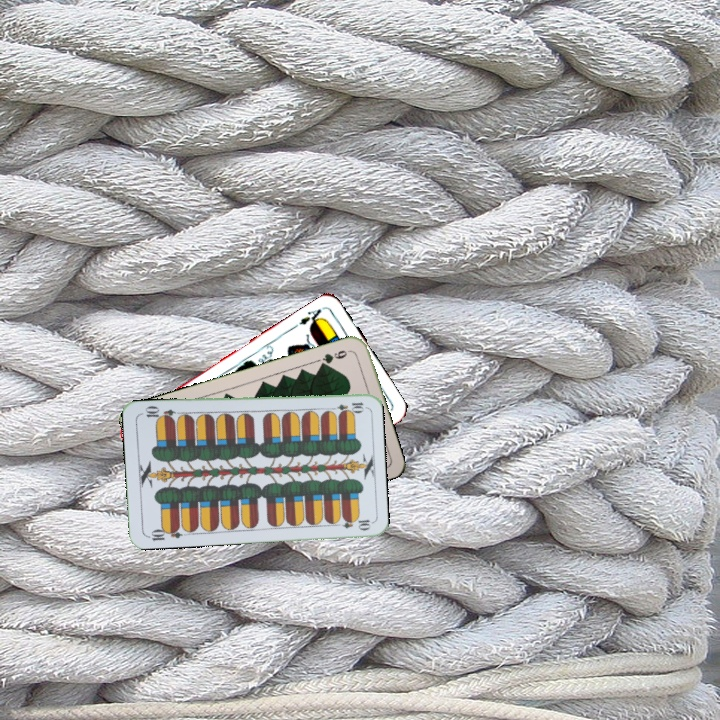E10: (143, 523, 184, 543), (326, 398, 366, 414)
EA: (295, 305, 326, 330)
G9: (315, 346, 353, 369)
